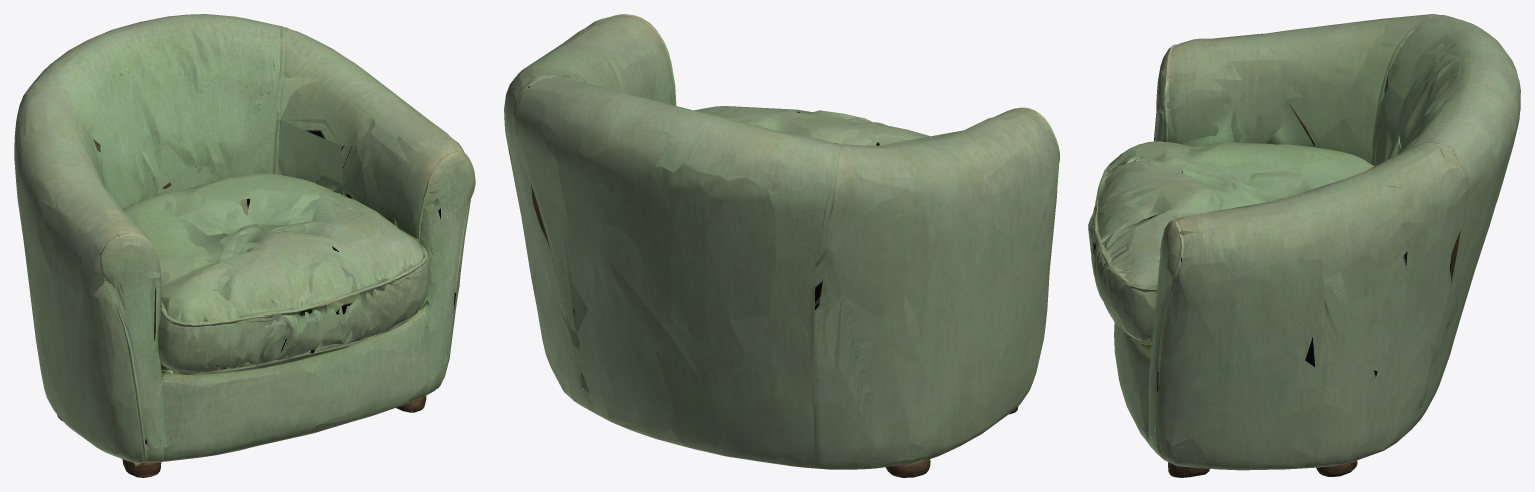
Rendered from w3sofa.glb.
3 views of the same model, side by side, from view 1: azimuth 30°, elevation 25°; view 2: azimuth 150°, elevation 25°; view 3: azimuth 270°, elevation 25° (orthographic). The views are drawn at different scales.
Visible parts, largest first — view 1: w3sofa_near, w3sofa_far; view 2: w3sofa_near, w3sofa_far; view 3: w3sofa_near, w3sofa_far.
Boxes of the visible parts, box(x1,y1,x2,y2) form: w3sofa_near: box(14, 14, 475, 477); w3sofa_far: box(24, 25, 472, 476); w3sofa_near: box(504, 14, 1059, 477); w3sofa_far: box(506, 16, 1057, 443); w3sofa_near: box(1088, 14, 1520, 477); w3sofa_far: box(1090, 15, 1497, 467).
Size of the model in its own units: 0.95 by 0.7438 by 0.8455.
Materials: 1 (1 with a texture image).
